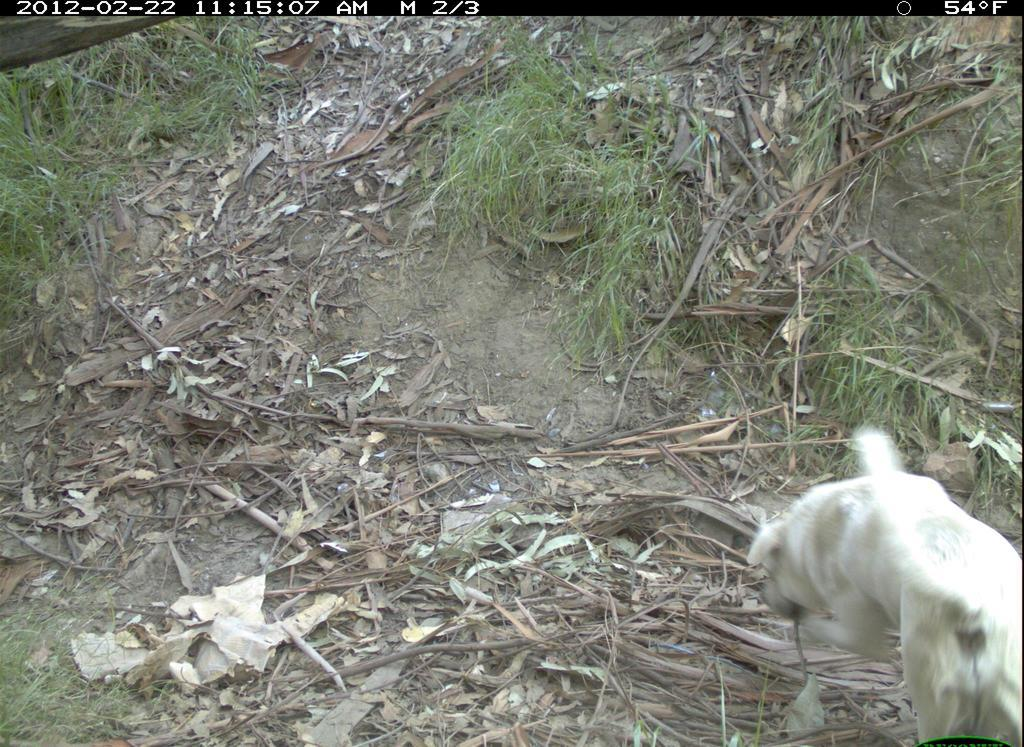dog: (737, 401, 1019, 739)
